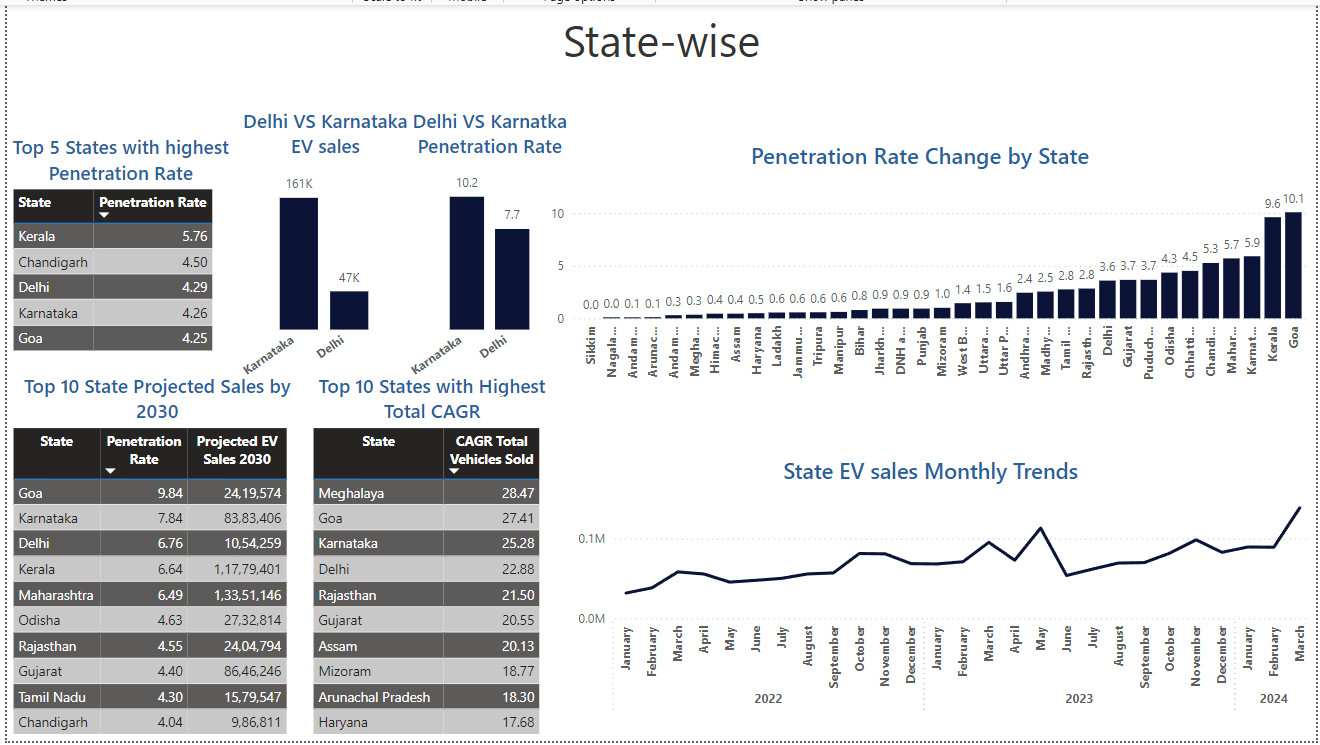

This screenshot's page, from the dashboard's own definition file:
{"tool":"powerbi","page":{"name":"State Dashboard","canvas":[1280,720],"ordinal":1},"visuals":[{"type":"clusteredColumnChart","title":"Penetration Rate Change by State","fields":{"Category":["electric_vehicle_sales_by_state.state"],"Y":["dim_date.Penetration Rate Change"]},"box":[506.7,131.8,773.6,263.7],"z":0},{"type":"tableEx","title":"Top 5 States with highest Penetration Rate","fields":{"Values":["electric_vehicle_sales_by_state.state","dim_date.Penetration Rate"]},"box":[0,125.5,222.4,235.1],"z":1000},{"type":"tableEx","title":"Top 10 States with Highest Total CAGR","fields":{"Values":["electric_vehicle_sales_by_state.state","dim_date.CAGR Total Vehicles Sold"]},"box":[293.9,359,244.6,360.6],"z":2000},{"type":"columnChart","title":"Delhi VS Karnataka EV sales","fields":{"Y":["Sum(electric_vehicle_sales_by_state.electric_vehicles_sold)"],"Category":["electric_vehicle_sales_by_state.state"]},"box":[217.6,100.1,187.4,295.5],"z":3000},{"type":"columnChart","title":"Delhi VS Karnatka Penetration Rate","fields":{"Category":["electric_vehicle_sales_by_state.state"],"Y":["dim_date.Penetration Rate"]},"box":[386,100.1,171.6,295.5],"z":4000},{"type":"lineChart","title":"State EV sales Monthly Trends","fields":{"Y":["Sum(electric_vehicle_sales_by_state.electric_vehicles_sold)"],"Category":["dim_date.date.Variation.Date Hierarchy.Year","dim_date.date.Variation.Date Hierarchy.Month"]},"box":[527.4,440,752.9,279.6],"z":5000},{"type":"tableEx","title":"Top 10 State Projected Sales by 2030","fields":{"Values":["electric_vehicle_sales_by_state.state","dim_date.Penetration Rate","electric_vehicle_sales_by_state.Projected EV Sales 2030"]},"box":[0,359,293.9,360.6],"z":6000},{"type":"textbox","box":[0,0,1280.3,79.4],"z":7000}]}

Visuals, with their boxes in screenshot pixels (x1, y1, x2, y2), scaled from the page's 1280x720 canvas onto the 1320x745 screenshot:
"Penetration Rate Change by State" clusteredColumnChart: bbox=[523, 136, 1319, 409]
"Top 5 States with highest Penetration Rate" tableEx: bbox=[0, 130, 229, 373]
"Top 10 States with Highest Total CAGR" tableEx: bbox=[303, 371, 555, 744]
"Delhi VS Karnataka EV sales" columnChart: bbox=[224, 104, 418, 409]
"Delhi VS Karnatka Penetration Rate" columnChart: bbox=[398, 104, 575, 409]
"State EV sales Monthly Trends" lineChart: bbox=[544, 455, 1319, 744]
"Top 10 State Projected Sales by 2030" tableEx: bbox=[0, 371, 303, 744]
textbox: bbox=[0, 0, 1319, 82]
